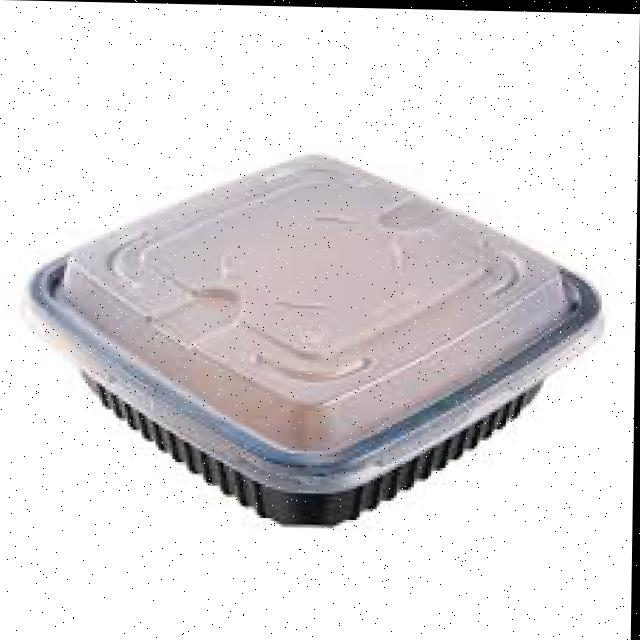disposable: (28, 142, 625, 550)
